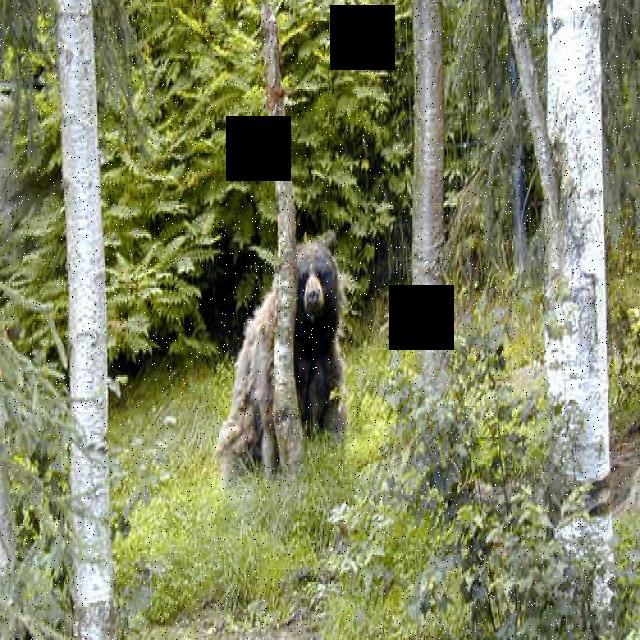Bear: (220, 235, 352, 465)
